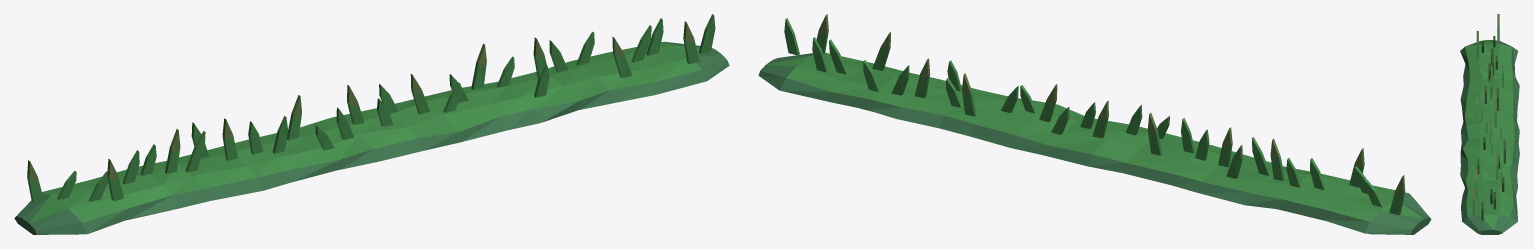
The model's file is ledge_z2_kelp_long.glb.
3 renders of one model, left to right at view 1: azimuth 30°, elevation 25°; view 2: azimuth 150°, elevation 25°; view 3: azimuth 270°, elevation 25°, orthographic. The views are drawn at different scales.
Parts seen in each view (by area): view 1: ledge_z2_kelp_long; view 2: ledge_z2_kelp_long; view 3: ledge_z2_kelp_long.
Boxes of the visible parts, left/top/right/bottom form: ledge_z2_kelp_long: left=14, top=14, right=729, bottom=234; ledge_z2_kelp_long: left=758, top=14, right=1431, bottom=234; ledge_z2_kelp_long: left=1460, top=14, right=1519, bottom=234.
Size of the model in its own units: 12 by 1 by 1.6.
